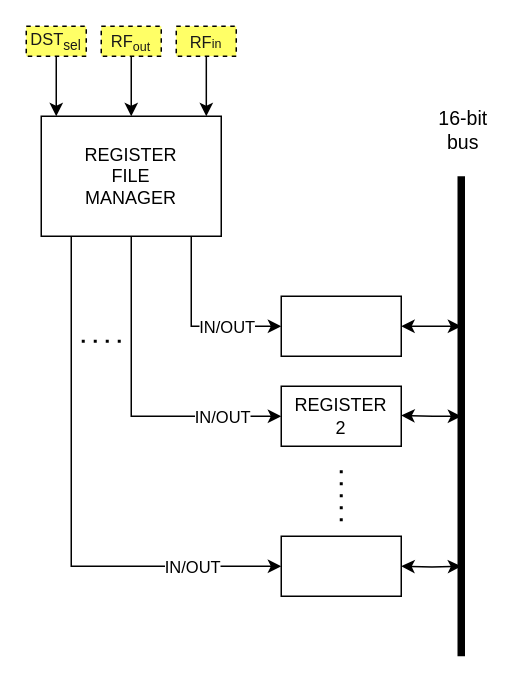
The diagram is 512 pixels wide and 687 high, and some of its shapes have lost their labels. Each missing label, with the centre of its shape:
"REGISTER 1" goes at (x=340, y=325).
"REGISTER 15" goes at (x=340, y=565).
